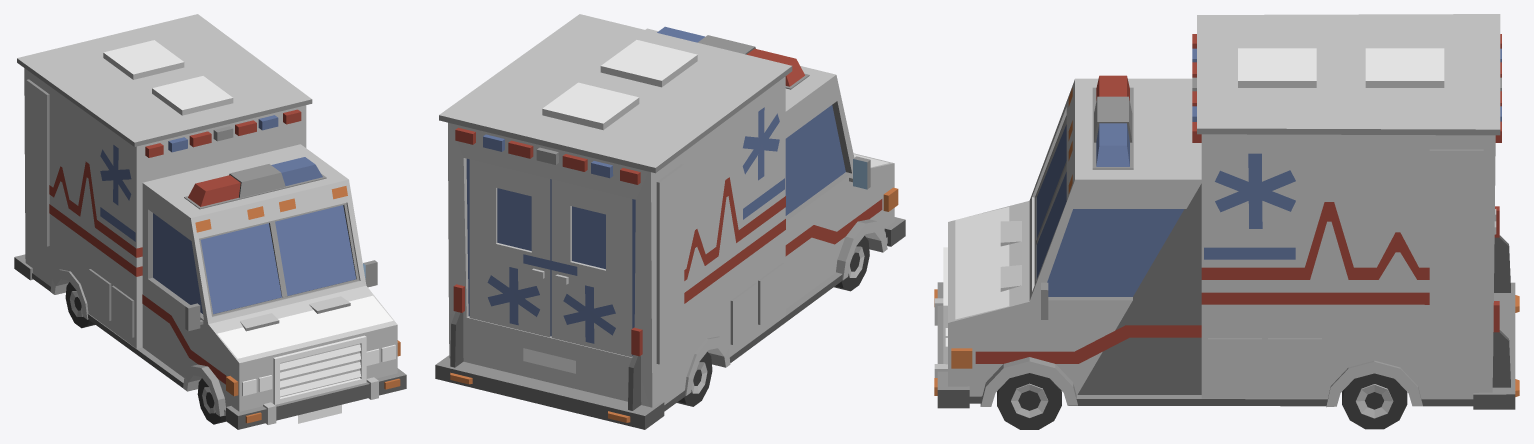
The model's file is transport_purpose_007.fbx.
3 renders of one model, left to right at view 1: azimuth 30°, elevation 25°; view 2: azimuth 150°, elevation 25°; view 3: azimuth 270°, elevation 25°, orthographic. The views are drawn at different scales.
Visible parts, largest first — view 1: transport_purpose_007; view 2: transport_purpose_007; view 3: transport_purpose_007.
Part boxes in pixels (x1,y1,x2,y2): transport_purpose_007: [14, 14, 406, 429]; transport_purpose_007: [435, 14, 905, 429]; transport_purpose_007: [934, 14, 1519, 429].
Size of the model in its own units: 198 by 241 by 405.
